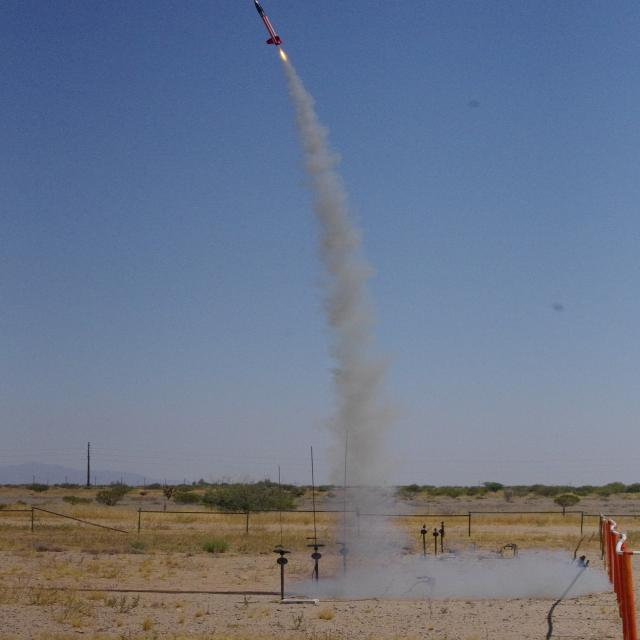Rocket: (253, 0, 283, 46)
